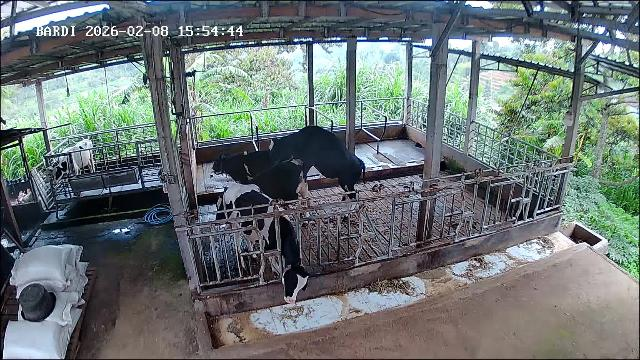mounting: (266, 124, 361, 224)
